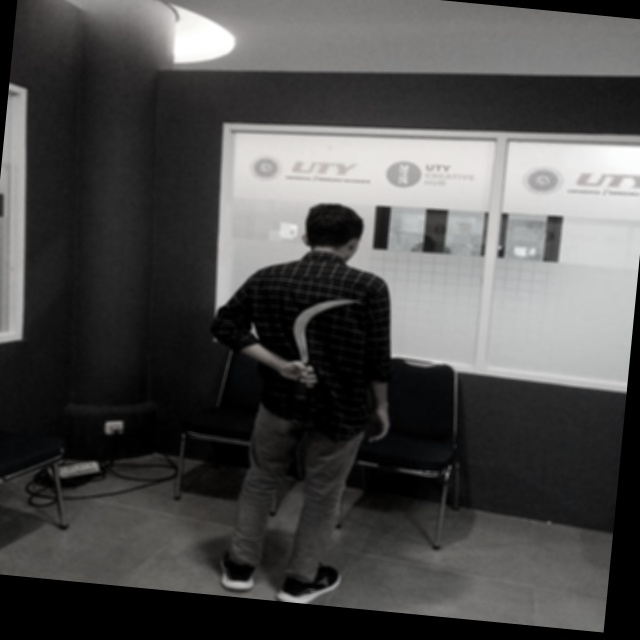Sharp-Object: (280, 287, 362, 392)
